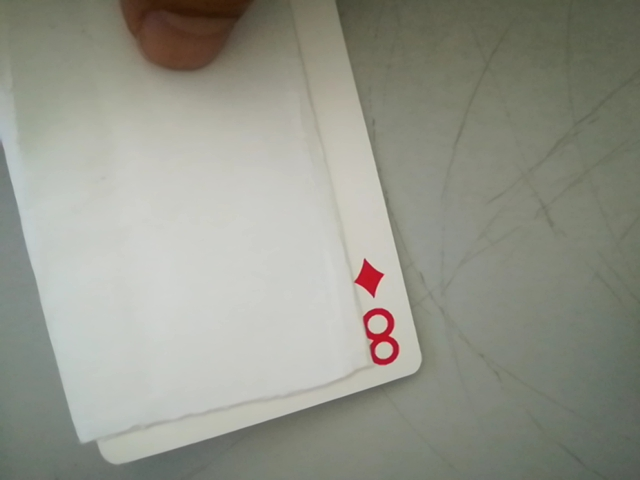fk 8: (343, 254, 414, 375)
